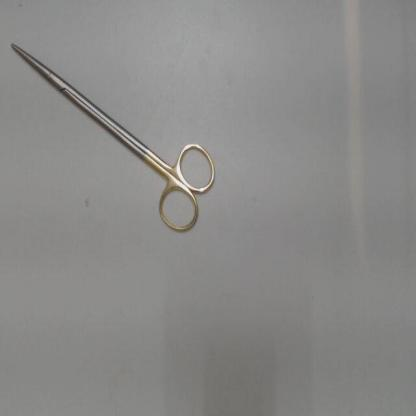7 Metzenbaum Scissors: (6, 39, 220, 240)
